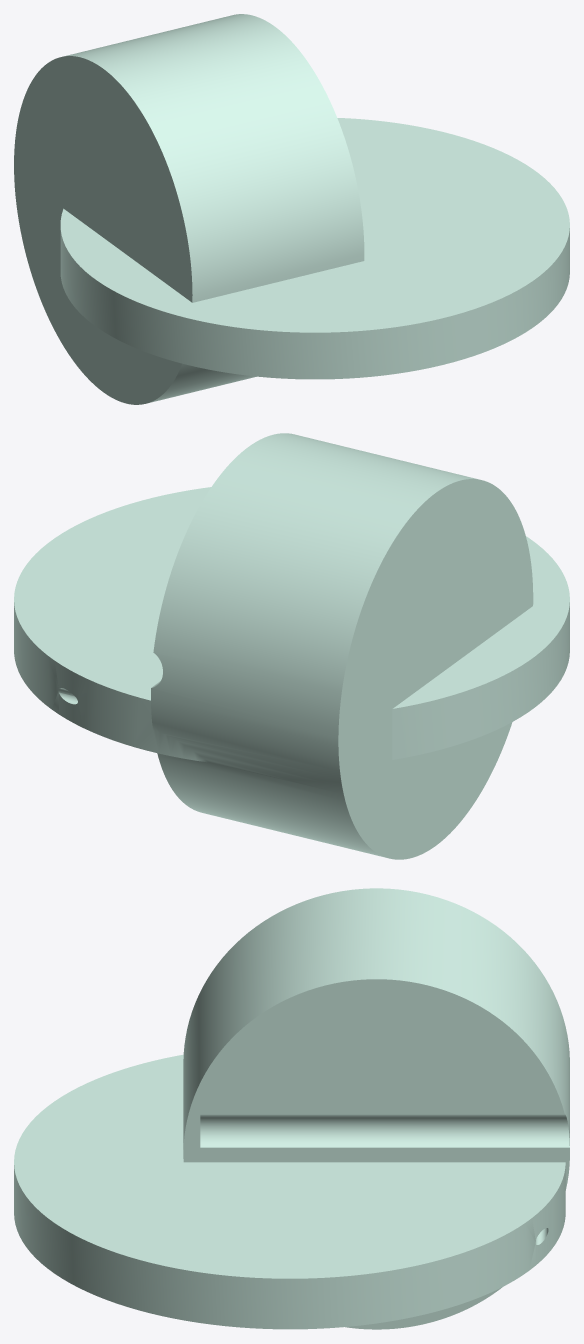
3 views of the same model, one above another, from view 1: azimuth 30°, elevation 25°; view 2: azimuth 150°, elevation 25°; view 3: azimuth 270°, elevation 25° (orthographic). The views are drawn at different scales.
Parts seen in each view (by area): view 1: Renderer Node; view 2: Renderer Node; view 3: Renderer Node.
Part boxes in pixels (x1,y1,x2,y2): Renderer Node: (14, 14, 569, 404); Renderer Node: (14, 433, 569, 859); Renderer Node: (14, 888, 569, 1329).
Size of the model in its own units: 1 by 0.7026 by 1.01.
